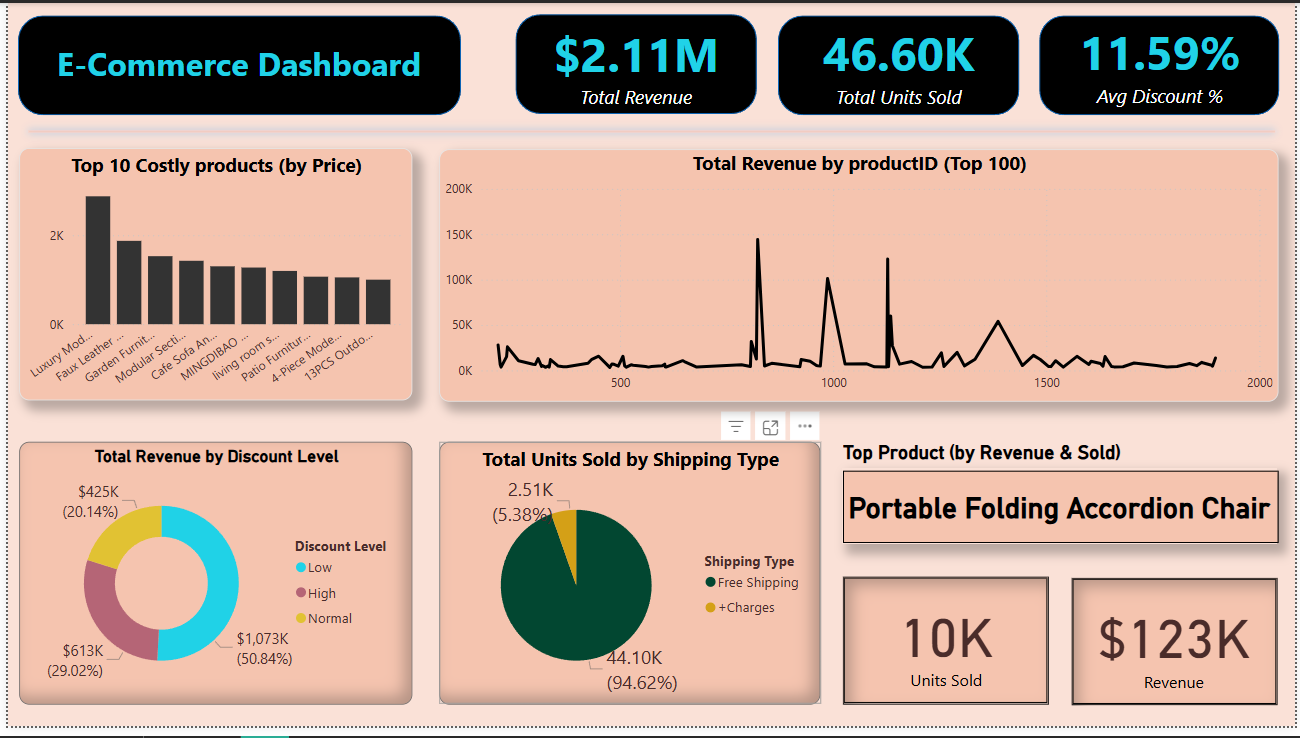

This screenshot's page, from the dashboard's own definition file:
{"tool":"powerbi","page":{"name":"Page 2","canvas":[1280,720],"ordinal":0},"visuals":[{"type":"shape","box":[9.8,12.3,440.5,99.4],"z":0},{"type":"card","fields":{"Values":["Measures Table.Ttitle()"]},"box":[9.8,11,440.5,99.4],"z":1000},{"type":"shape","box":[505.5,11,240.5,99.4],"z":2000},{"type":"shape","box":[766.9,12.3,240.5,99.4],"z":3000},{"type":"shape","box":[1025.8,12,239.3,99.4],"z":4000},{"type":"card","fields":{"Values":["Measures Table.Revenue"]},"box":[505.5,11,240.5,100.6],"z":5000},{"type":"card","fields":{"Values":["Measures Table.Total Units"]},"box":[766.9,11,240.5,99.4],"z":6000},{"type":"card","fields":{"Values":["Measures Table.Avg Discount %"]},"box":[1025.8,9.8,240.5,100.6],"z":7000},{"type":"donutChart","fields":{"Category":["E-Commerce Data.Discount Level"],"Y":["Measures Table.Total Revenue"]},"box":[11,436.8,391.4,261.4],"z":8000},{"type":"shape","title":"Top Product (by Revenue & Sold)","box":[830.6,436.6,433.8,101],"z":9000},{"type":"card","fields":{"Values":["Measures Table.MVP Product"]},"box":[829.5,462.6,433.1,76.1],"z":10000},{"type":"shape","box":[1058.1,571.7,204.8,126.6],"z":11000},{"type":"shape","box":[831,571.3,204.9,127],"z":12000},{"type":"card","fields":{"Values":["Measures Table.Maximum Orders"]},"box":[831.9,571.8,203.7,126.4],"z":13000},{"type":"card","fields":{"Values":["Measures Table.Most sold Product"]},"box":[1058.9,573,203.7,126.4],"z":14000},{"type":"pieChart","title":"Total Units Sold by Shipping Type","fields":{"Category":["E-Commerce Data.Cost for Shipping"],"Y":["Measures Table.Total Units Sold"]},"box":[429.5,436.8,379.1,261.4],"z":15000},{"type":"lineChart","title":"Total Revenue by productID (Top 100)","fields":{"Y":["Measures Table.Revenue"],"Category":["E-Commerce Data.productID"]},"box":[429.5,146,835.6,251.5],"z":16000},{"type":"clusteredColumnChart","title":"Top 10 Costly products (by Price)","fields":{"Y":["Max(E-Commerce Data.price)"],"Category":["E-Commerce Data.productTitle"]},"box":[11,144.8,391.4,251.5],"z":17000},{"type":"shape","box":[12.3,110.4,1256.4,34.4],"z":18000}]}

Visuals, with their boxes in screenshot pixels (x1, y1, x2, y2), scaled from the page's 1280x720 canvas onto the 1300x738 screenshot:
shape: bbox=(10, 13, 457, 114)
card - Measures Table.Ttitle(): bbox=(10, 11, 457, 113)
shape: bbox=(513, 11, 758, 113)
shape: bbox=(779, 13, 1023, 114)
shape: bbox=(1042, 12, 1285, 114)
card - Measures Table.Revenue: bbox=(513, 11, 758, 114)
card - Measures Table.Total Units: bbox=(779, 11, 1023, 113)
card - Measures Table.Avg Discount %: bbox=(1042, 10, 1286, 113)
donutChart - E-Commerce Data.Discount Level x Measures Table.Total Revenue: bbox=(11, 448, 409, 716)
"Top Product (by Revenue & Sold)" shape: bbox=(844, 448, 1284, 551)
card - Measures Table.MVP Product: bbox=(842, 474, 1282, 552)
shape: bbox=(1075, 586, 1283, 716)
shape: bbox=(844, 586, 1052, 716)
card - Measures Table.Maximum Orders: bbox=(845, 586, 1052, 716)
card - Measures Table.Most sold Product: bbox=(1075, 587, 1282, 717)
"Total Units Sold by Shipping Type" pieChart: bbox=(436, 448, 821, 716)
"Total Revenue by productID (Top 100)" lineChart: bbox=(436, 150, 1285, 407)
"Top 10 Costly products (by Price)" clusteredColumnChart: bbox=(11, 148, 409, 406)
shape: bbox=(12, 113, 1289, 148)
